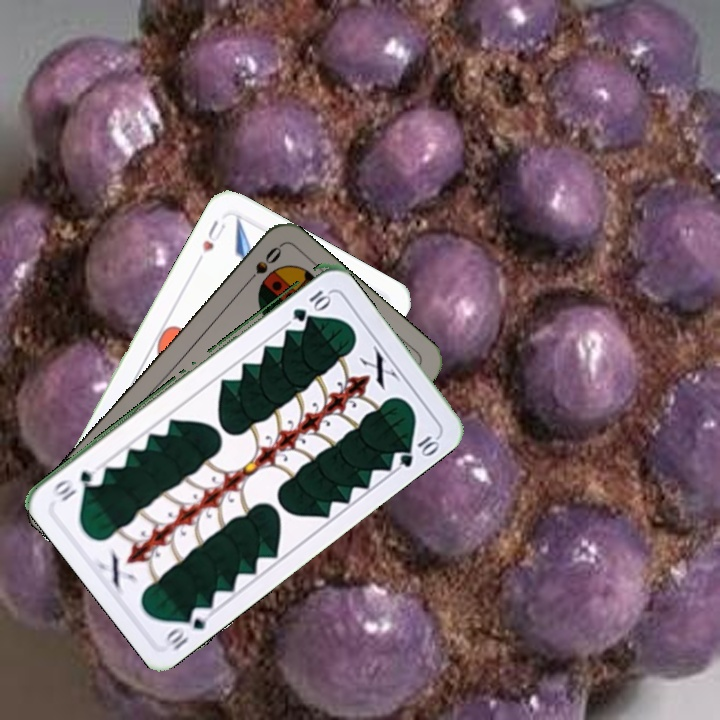G10: (162, 602, 215, 652), (288, 286, 332, 323)
HU: (198, 216, 229, 255)
SO: (239, 242, 285, 290)
